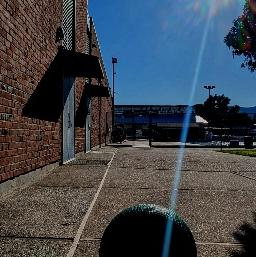algae: (95, 199, 199, 257)
